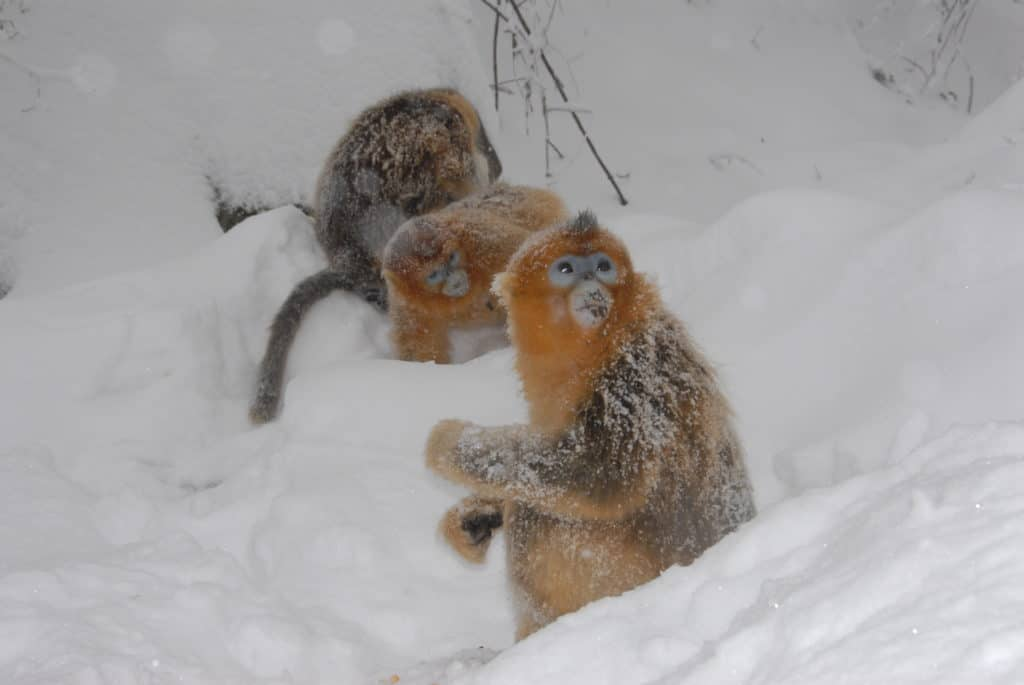GoldenSnub-Nosed: (434, 193, 761, 615), (388, 170, 566, 340), (301, 100, 497, 250)
